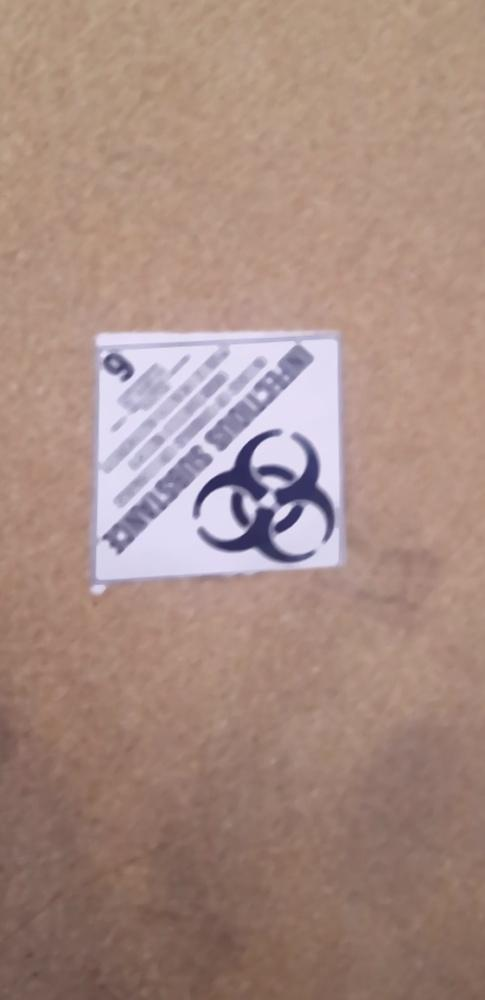infectious-substance: (86, 328, 362, 580)
